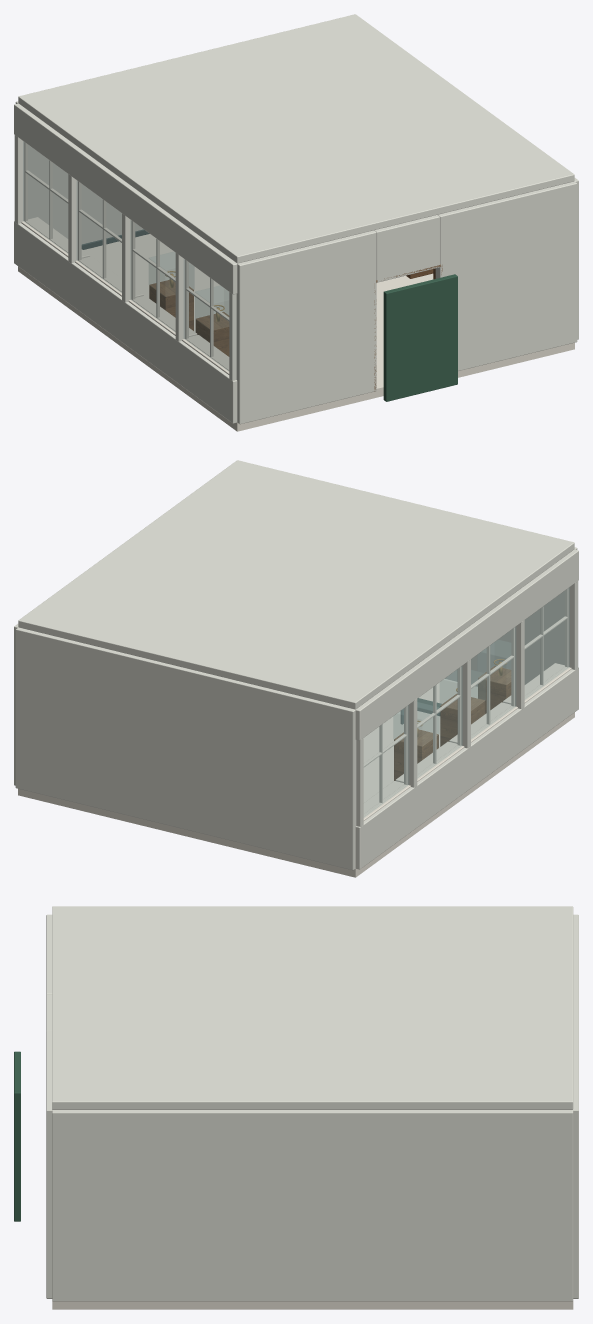
3 renders of one model, top to bottom at view 1: azimuth 30°, elevation 25°; view 2: azimuth 150°, elevation 25°; view 3: azimuth 270°, elevation 25°, orthographic. The views are drawn at different scales.
Parts seen in each view (by area): view 1: 2-4__architecture_and_equipment; view 2: 2-4__architecture_and_equipment; view 3: 2-4__architecture_and_equipment.
Part boxes in pixels (<box>): 2-4__architecture_and_equipment: <box>14,14,578,431</box>; 2-4__architecture_and_equipment: <box>14,460,578,877</box>; 2-4__architecture_and_equipment: <box>14,906,578,1309</box>.
Bounding box in the file's own units: 8.2 × 3.96 × 9.76.
11 materials, 1 textured.
